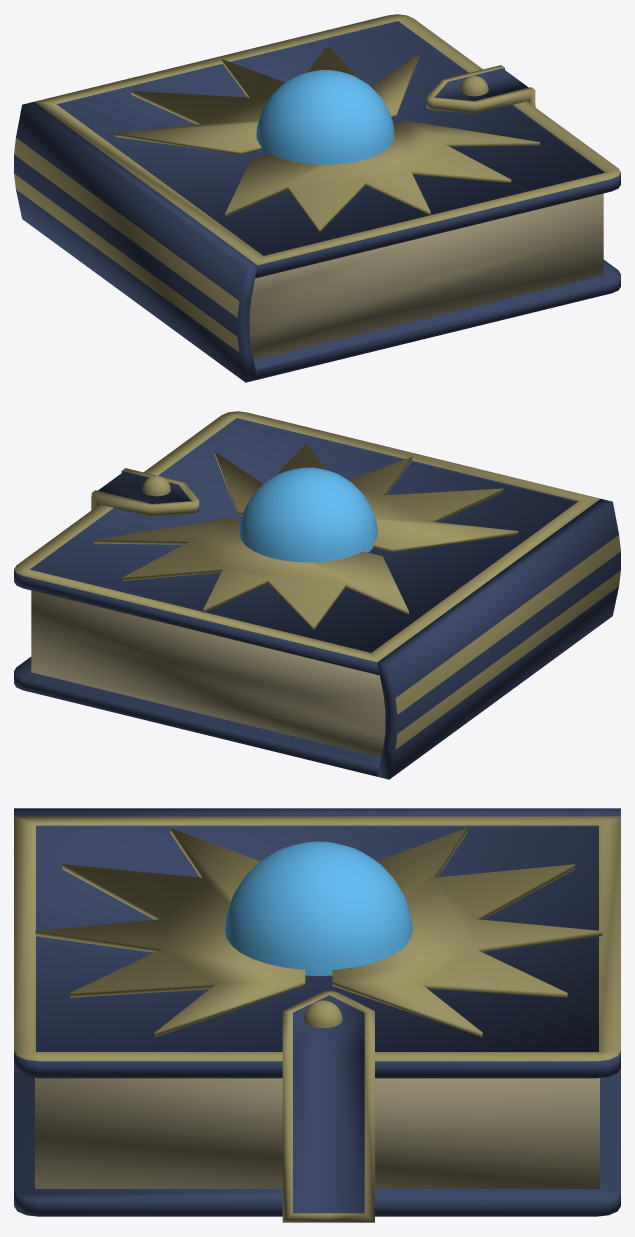
File: Book.glb
3 views of the same model, one above another, from view 1: azimuth 30°, elevation 25°; view 2: azimuth 150°, elevation 25°; view 3: azimuth 270°, elevation 25° (orthographic). The views are drawn at different scales.
Visible parts, largest first — view 1: Book; view 2: Book; view 3: Book.
Boxes of the visible parts, left/top/right/bottom form: Book: left=14, top=14, right=620, bottom=382; Book: left=14, top=411, right=620, bottom=779; Book: left=14, top=808, right=620, bottom=1222.
Bounding box in the file's own units: 2.22 × 0.9401 × 2.15.
